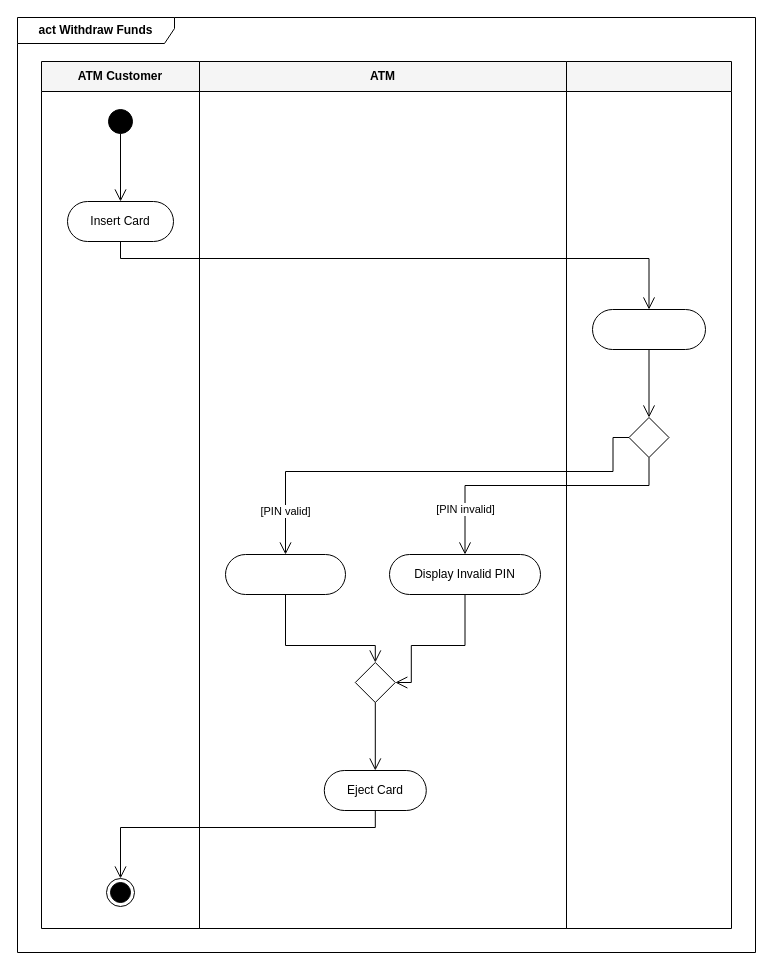
The diagram is 773 pixels wide and 970 high, and some of its shapes have lost their labels. The shapes that lost their labels are listed below. From the top down, each one's box as (x1, y1, x2, y2) in pixels, then its label:
(592, 308, 706, 350): Validate PIN
(566, 60, 732, 928): Bank Server
(224, 554, 346, 594): Display Menu
